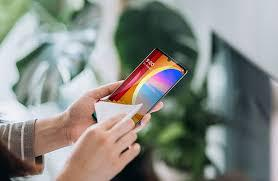Hand: (61, 79, 126, 145), (79, 120, 147, 177)
Smartphone: (95, 52, 179, 139)
